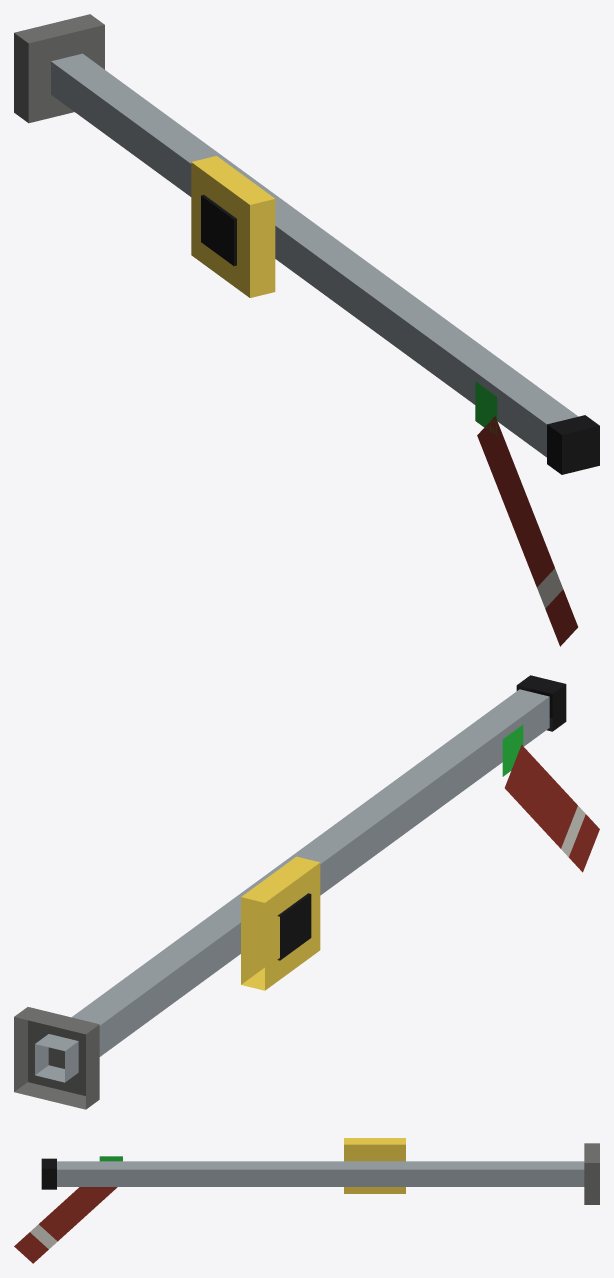
File: green.glb
3 views of the same model, one above another, from view 1: azimuth 30°, elevation 25°; view 2: azimuth 150°, elevation 25°; view 3: azimuth 270°, elevation 25° (orthographic). The views are drawn at different scales.
Parts seen in each view (by area): view 1: signal_semaphore_combo_green; view 2: signal_semaphore_combo_green; view 3: signal_semaphore_combo_green.
Part boxes in pixels (x1=…): signal_semaphore_combo_green: x1=14, y1=14, x2=599, y2=646; signal_semaphore_combo_green: x1=14, y1=675, x2=599, y2=1109; signal_semaphore_combo_green: x1=14, y1=1138, x2=599, y2=1263.
Size of the model in its own units: 1.35 by 3.46 by 15.11.
